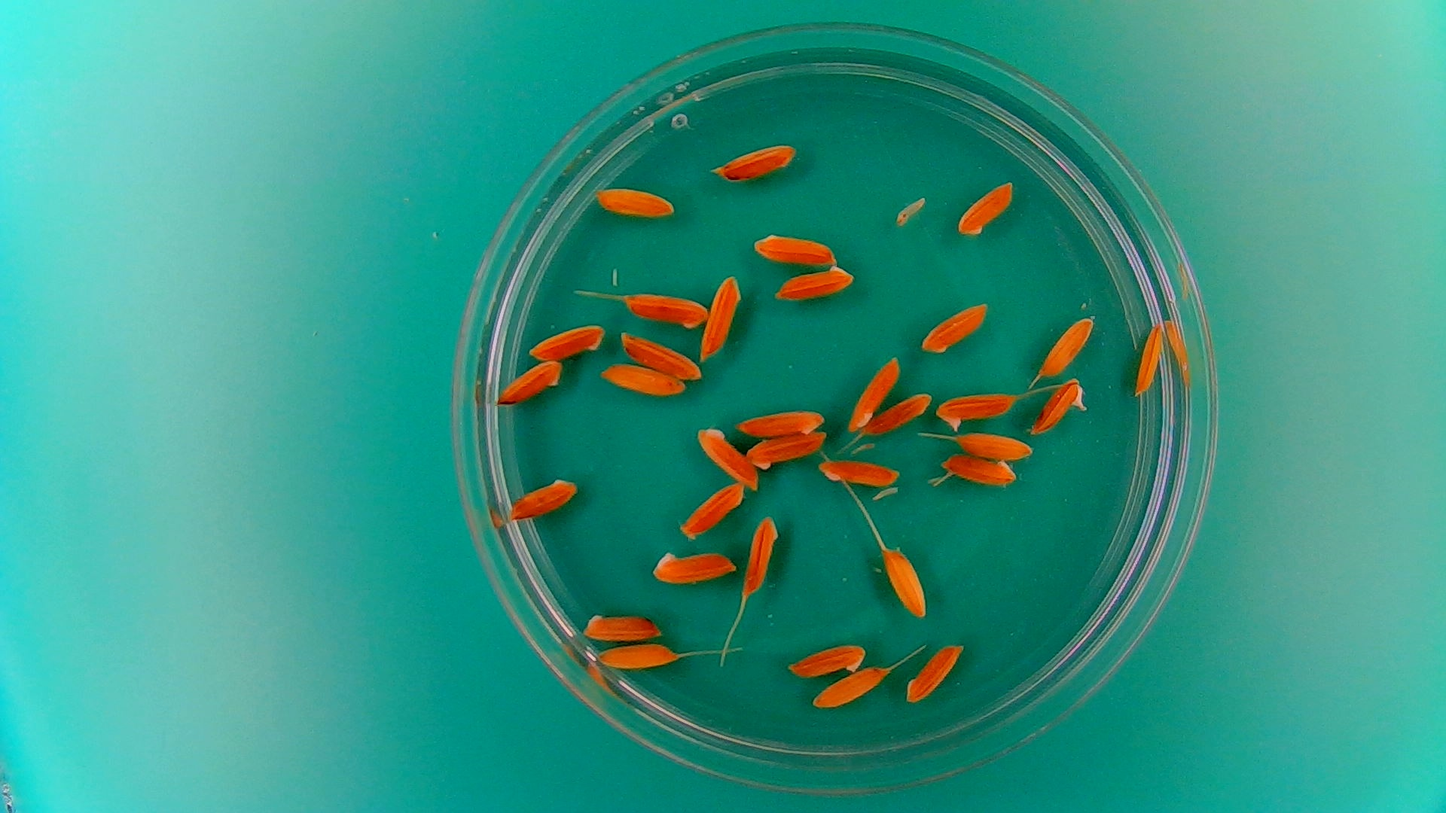no: (693, 423, 761, 492), (846, 352, 903, 434), (676, 480, 748, 540), (618, 330, 703, 380), (698, 271, 743, 363), (710, 139, 798, 185), (1037, 313, 1097, 379), (933, 389, 1020, 434), (879, 544, 930, 620), (919, 301, 990, 355), (955, 177, 1017, 238), (904, 641, 964, 704), (811, 663, 891, 710), (749, 227, 841, 267), (620, 289, 708, 330), (648, 547, 740, 586), (773, 262, 857, 304), (863, 388, 935, 437), (524, 320, 606, 362), (782, 639, 868, 679), (744, 431, 828, 471), (505, 477, 580, 521), (494, 358, 564, 405), (592, 182, 676, 221), (743, 511, 781, 596), (597, 364, 685, 398), (733, 405, 826, 437), (816, 455, 903, 489), (938, 454, 1020, 489), (1132, 318, 1167, 399), (579, 611, 668, 642), (594, 640, 682, 671), (951, 430, 1034, 461)
yes: (1031, 376, 1088, 437)
